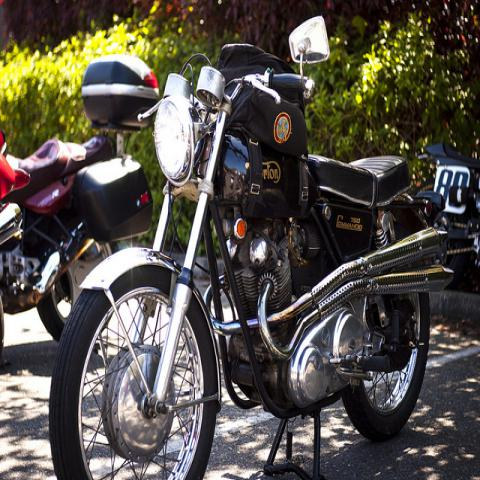motorcycle: (47, 13, 456, 475), (0, 124, 158, 353), (416, 137, 480, 292)
